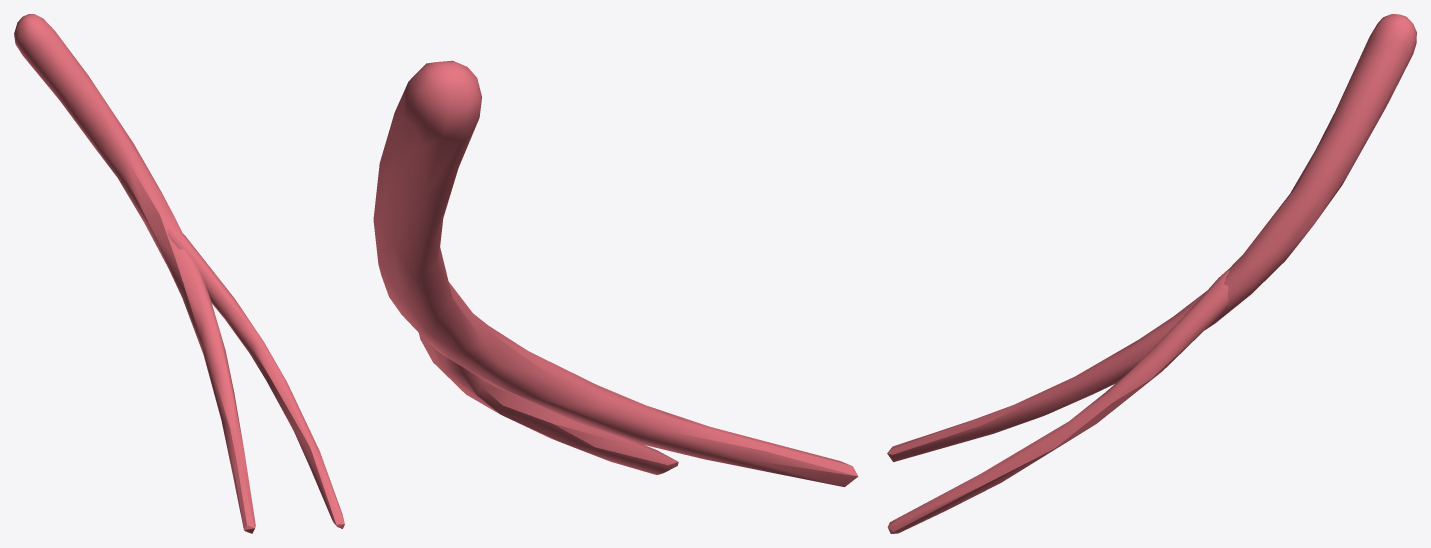
Rendered from fma8669_cx280.glb.
The picture shows the model from 3 angles, left to right: view 1: azimuth 30°, elevation 25°; view 2: azimuth 150°, elevation 25°; view 3: azimuth 270°, elevation 25°; orthographic projection. The views are drawn at different scales.
Visible parts, largest first — view 1: FMA8669_CX280; view 2: FMA8669_CX280; view 3: FMA8669_CX280.
Part boxes in pixels (x1=…): FMA8669_CX280: x1=14, y1=14, x2=344, y2=533; FMA8669_CX280: x1=373, y1=60, x2=858, y2=487; FMA8669_CX280: x1=887, y1=14, x2=1416, y2=533.
Bounding box in the file's own units: 0.0184 × 0.0499 × 0.0522.
